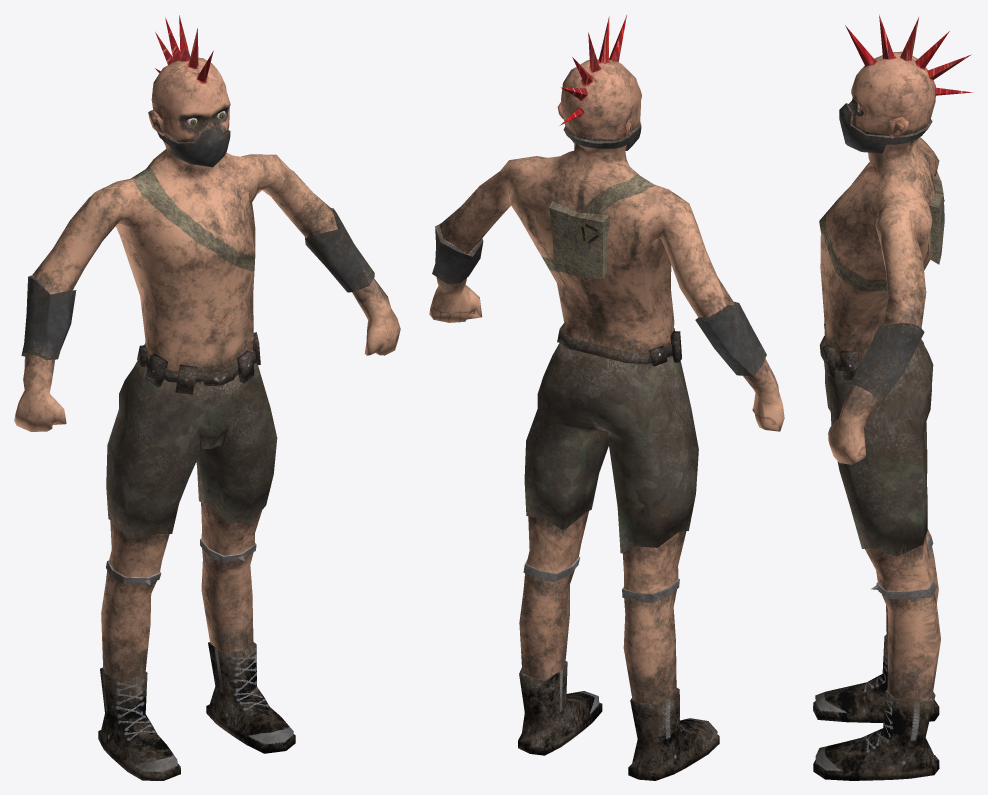
The model's file is Anim_idle_npc2.0026.obj.
3 renders of one model, left to right at view 1: azimuth 30°, elevation 25°; view 2: azimuth 150°, elevation 25°; view 3: azimuth 270°, elevation 25°, orthographic. The views are drawn at different scales.
Visible parts, largest first — view 1: polySurface1; view 2: polySurface1; view 3: polySurface1.
Boxes of the visible parts, left/top/right/bottom form: polySurface1: left=14, top=15, right=400, bottom=780; polySurface1: left=429, top=15, right=784, bottom=780; polySurface1: left=813, top=14, right=973, bottom=780.
Bounding box in the file's own units: 5.45 × 10.19 × 2.03.
